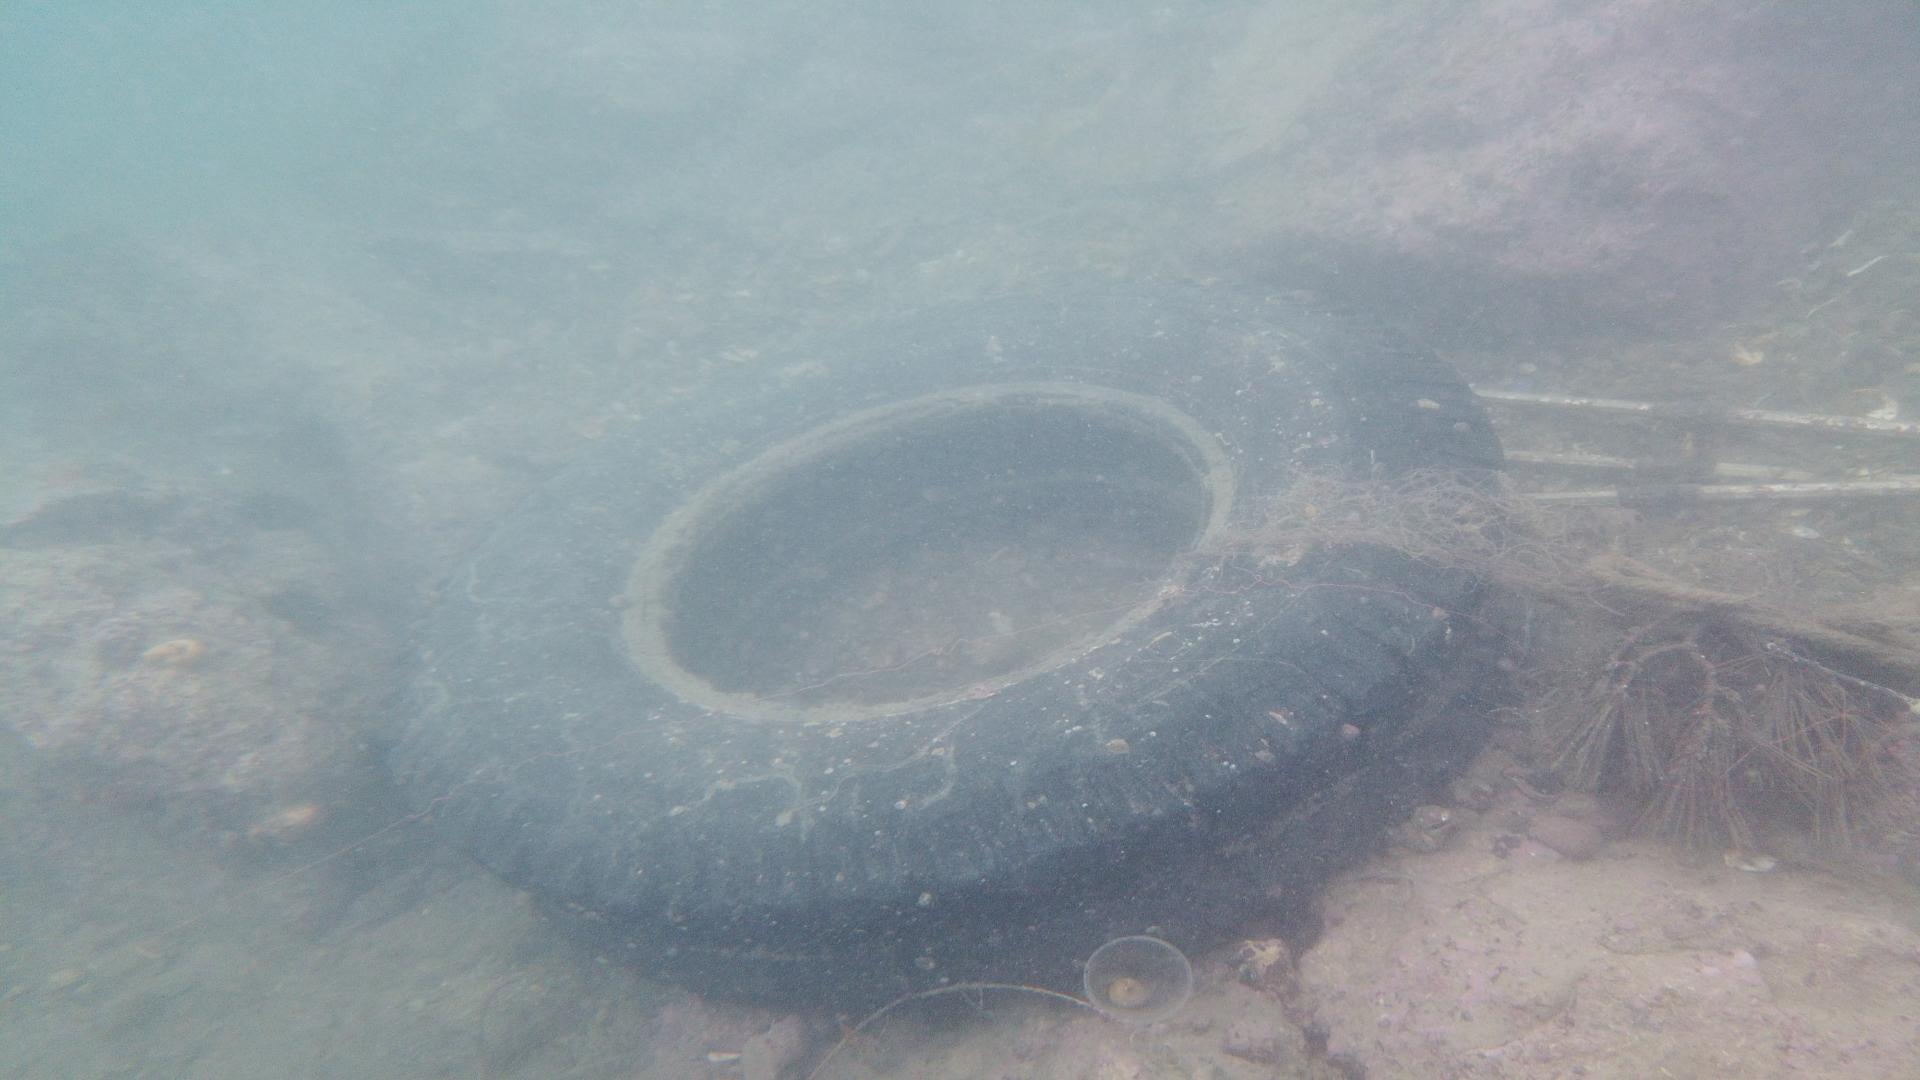rope: (1576, 547, 1920, 680)
tire: (388, 282, 1516, 1011)
